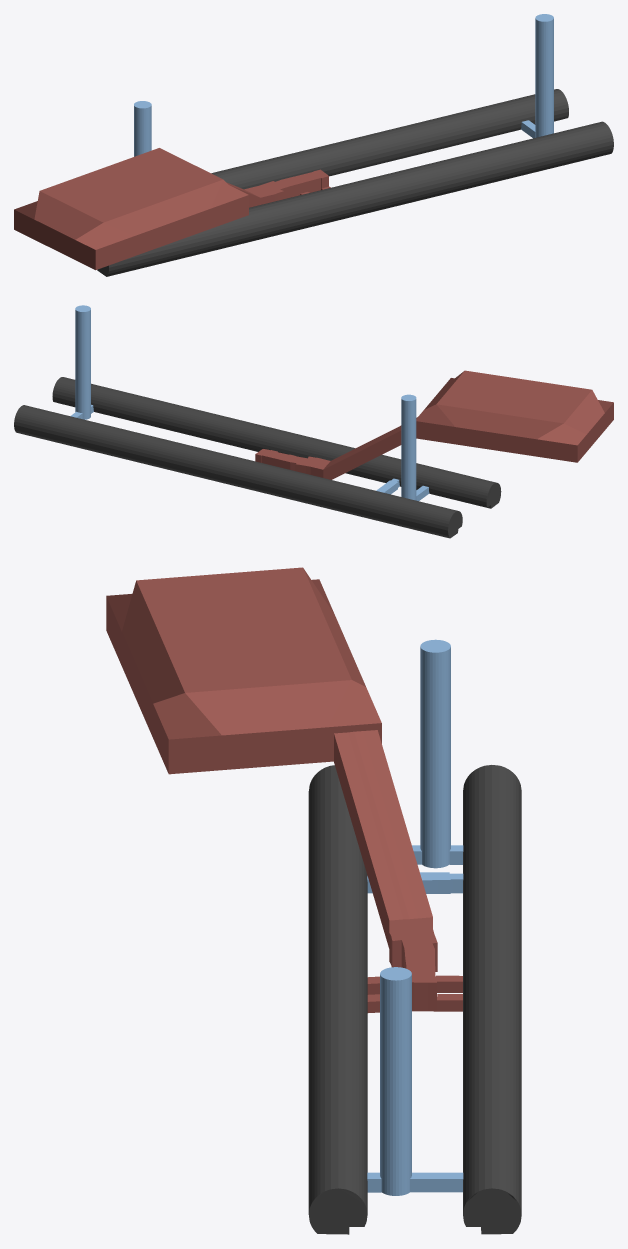
The picture shows the model from 3 angles, top to bottom: view 1: azimuth 30°, elevation 25°; view 2: azimuth 150°, elevation 25°; view 3: azimuth 270°, elevation 25°; orthographic projection. The views are drawn at different scales.
Visible parts, largest first — view 1: TicketHall, PLT1, PLT2, 13, Concourse, 23; view 2: PLT2, TicketHall, PLT1, 13, 23, ESC, Concourse; view 3: TicketHall, PLT2, PLT1, ESC, 13, 23, Concourse, 43.
Boxes of the visible parts, left/top/right/bottom form: TicketHall: left=14, top=148, right=248, bottom=270; PLT1: left=97, top=121, right=613, bottom=276; PLT2: left=211, top=89, right=568, bottom=189; 13: left=521, top=14, right=553, bottom=138; Concourse: left=244, top=169, right=328, bottom=204; 23: left=134, top=101, right=151, bottom=156; PLT2: left=14, top=405, right=462, bottom=538; TicketHall: left=416, top=370, right=613, bottom=462; PLT1: left=52, top=377, right=501, bottom=508; 13: left=70, top=305, right=93, bottom=419; 23: left=401, top=394, right=429, bottom=501; ESC: left=323, top=417, right=417, bottom=479; Concourse: left=255, top=449, right=330, bottom=477; TicketHall: left=106, top=567, right=381, bottom=774; PLT2: left=463, top=765, right=521, bottom=1234; PLT1: left=308, top=765, right=367, bottom=1234; ESC: left=334, top=730, right=432, bottom=948; 13: left=367, top=967, right=463, bottom=1195; 23: left=412, top=639, right=463, bottom=868; Concourse: left=389, top=917, right=437, bottom=1011; 43: left=367, top=872, right=463, bottom=893.
Bounding box in the file's own units: 186 × 38.67 × 65.05.
